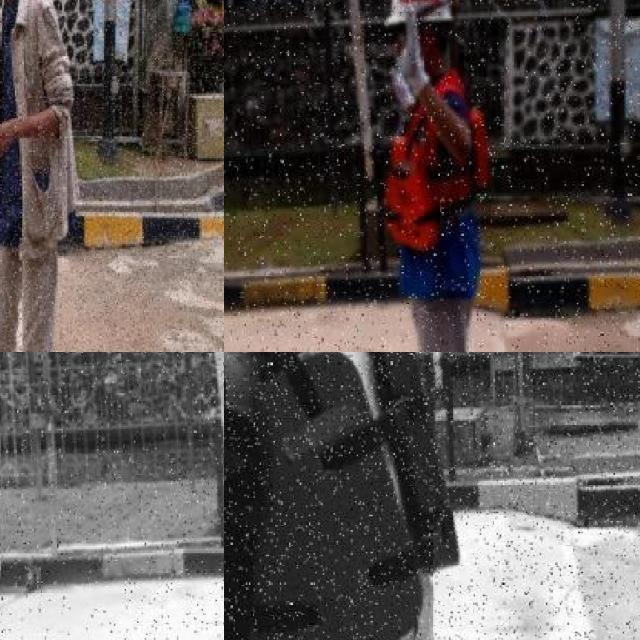apron: (393, 5, 428, 96), (382, 52, 415, 107)
